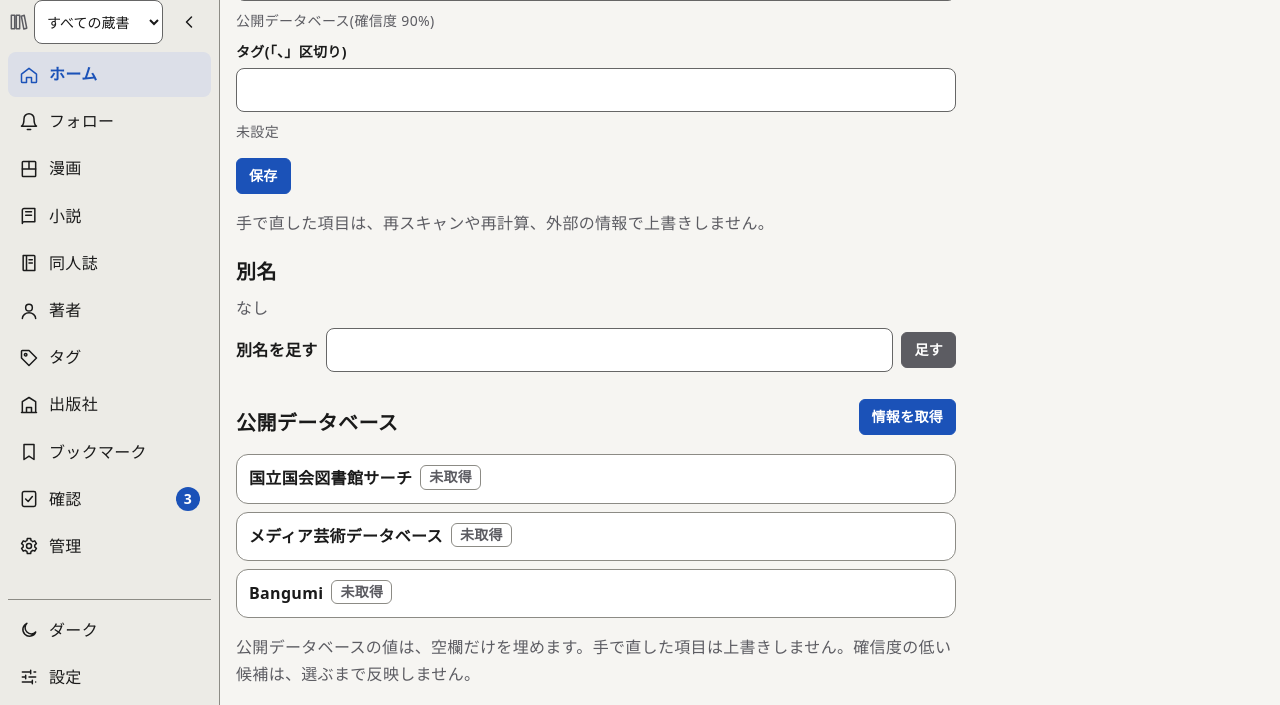
Test: 作品ページ › 別名の一致で別の作品に自動統合されたら、吸収先の作品ページへ移る
(page scrolled)
Type "別の読み物" into the field labelled "別名を足す" at {"x": 610, "y": 350}, box [326,328,893,372]
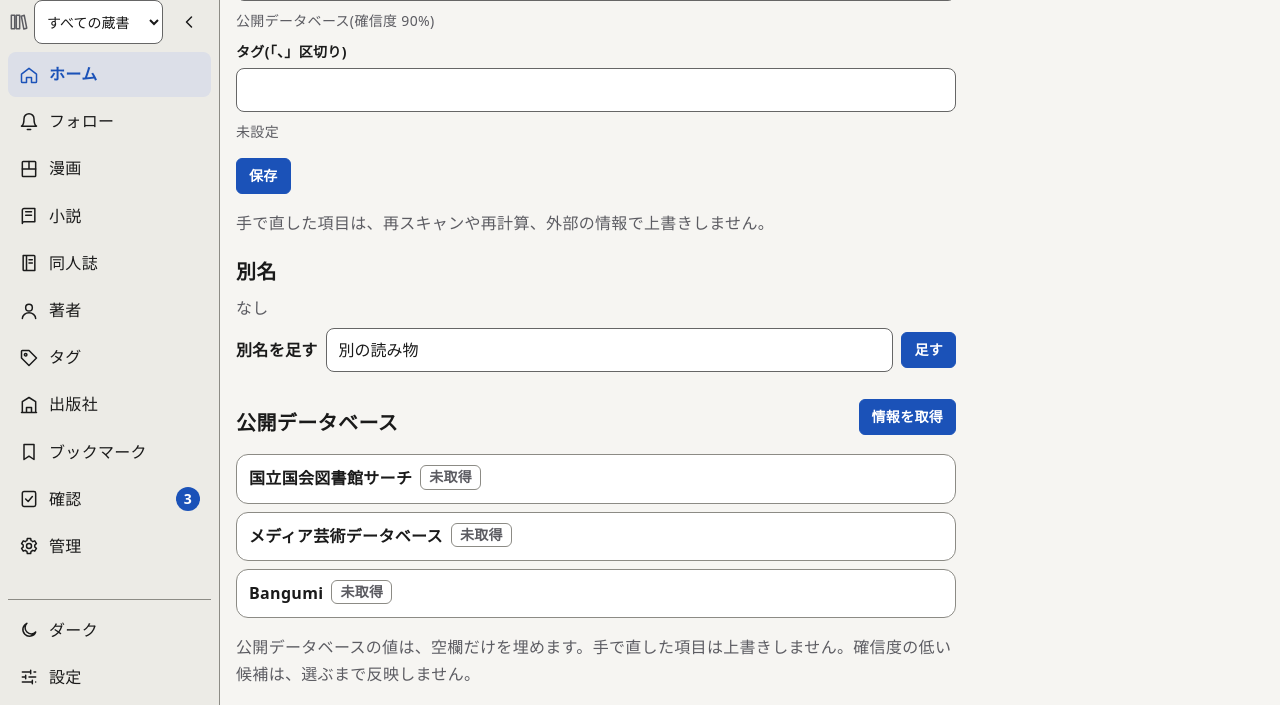
Click the button "足す" at {"x": 929, "y": 350}, box [901,332,956,368]
(page scrolled)
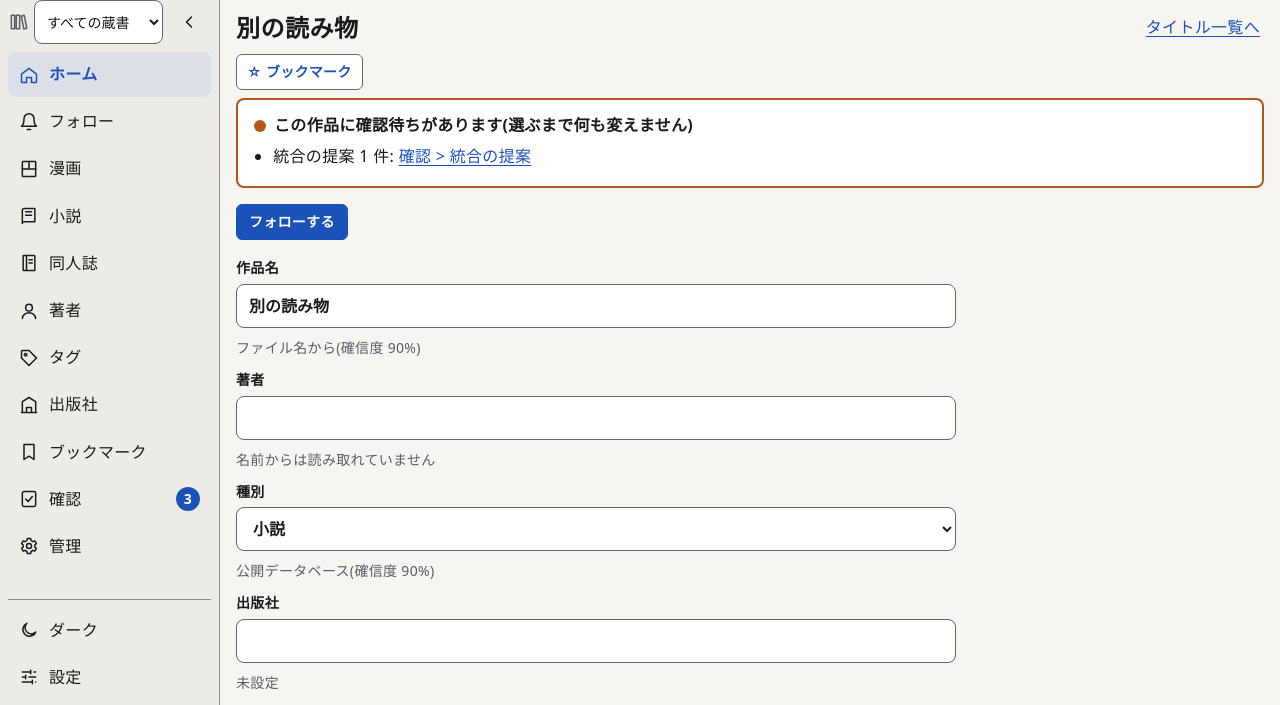
Expected: the heading "別の読み物" is shown, [236,10,358,46]
